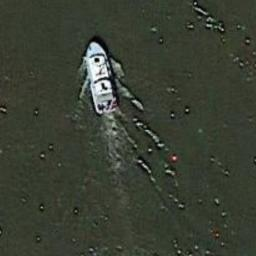boat: (79, 39, 121, 115)
